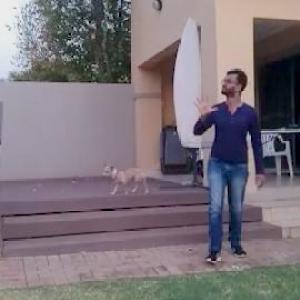follow_hand: (188, 87, 221, 119)
